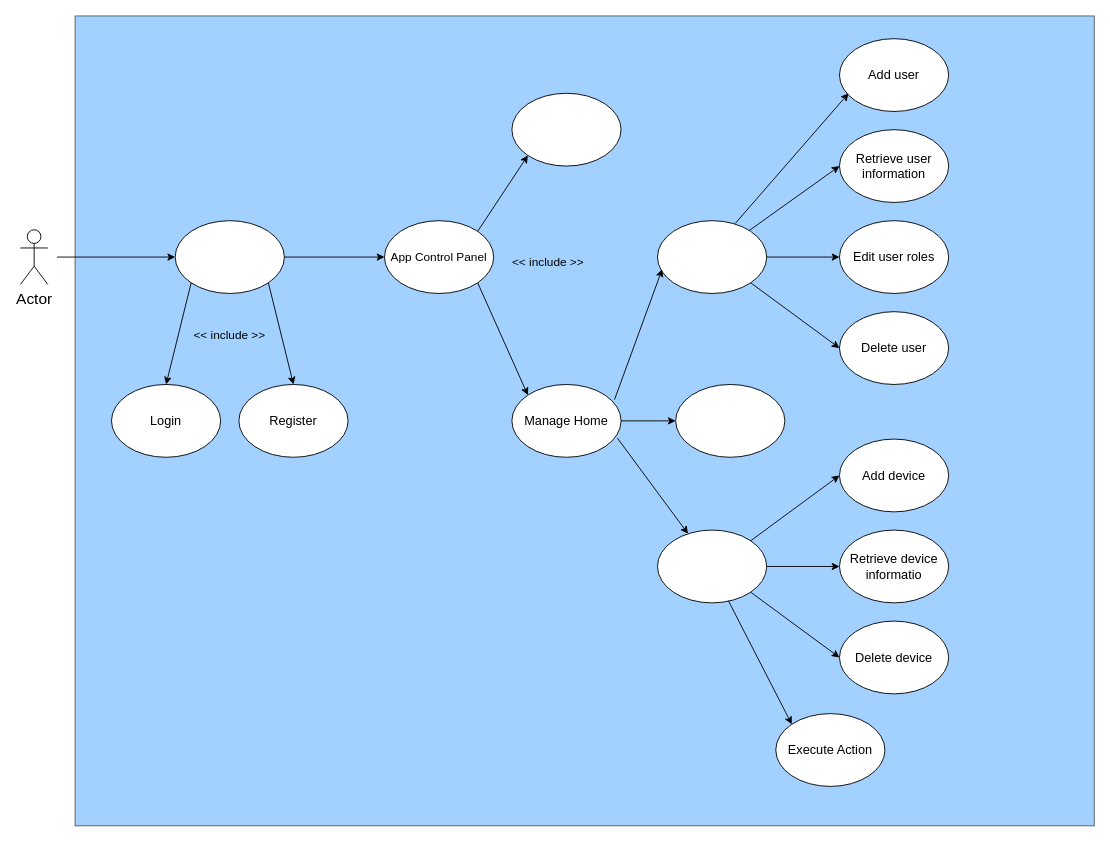
Image size: 1110x842. Some labels were removed from this diagram. The shapes that lost their labels are listed below. From the top down, each one's centre as x and y in pixels, then its label:
the point at 566,129: Manage own account
the point at 229,256: Authenticate
the point at 712,256: Manage users
the point at 730,420: Retrieve home information
the point at 712,566: Manage Devices
